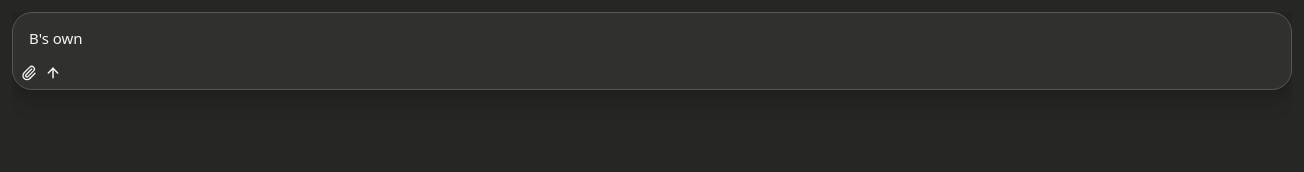
Test: chat composer behaviour › keeps each chat's unsent text with that chat
Later steps or results of the test are not shown.
Expected: the text box named "Message" holds "B's own", [13,13,1291,65]
Click the button named "Send": (53, 73) [45,65,61,81]
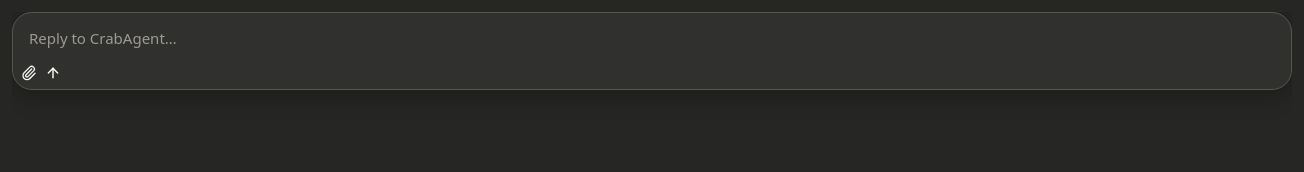
Expected: the text box with placeholder "Reply to CrabAgent…" is empty, [13,13,1291,65]
